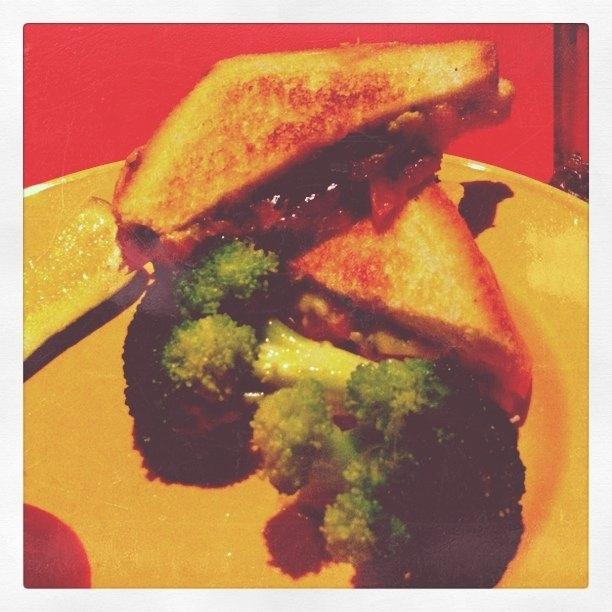broccoli: (250, 348, 529, 588), (122, 234, 379, 488)
